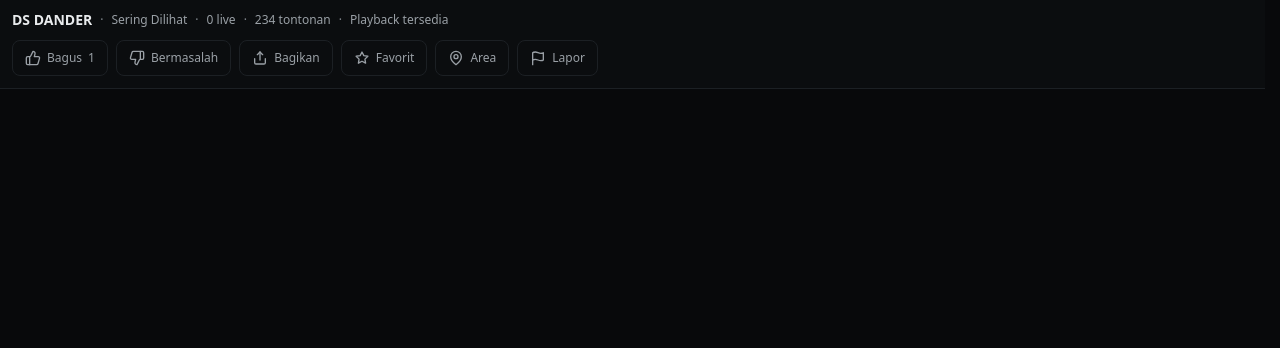
it: CameraDetailPanel — the Lapor chip owns the form › shuts a half-open form when the popup jumps to another camera
Click the button with test id "camera-action-report". click: (558, 58)
box: [517,40,598,76]
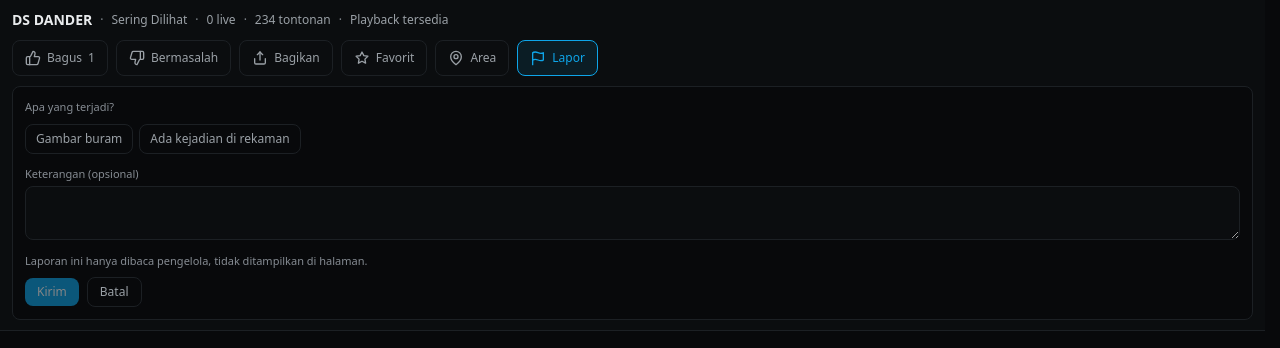
Result: the button "Gambar buram" is shown at [25,124,133,154]
